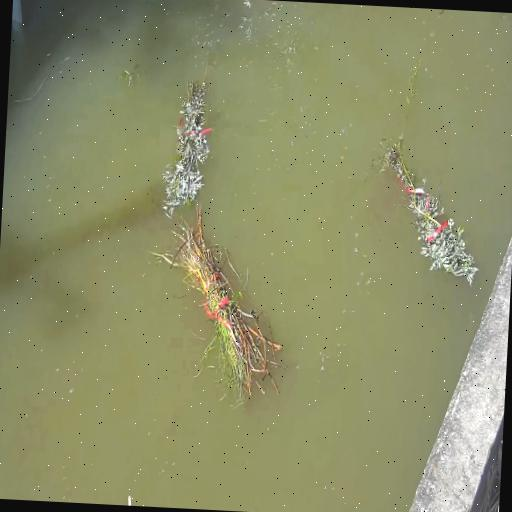twig: (155, 211, 281, 398), (384, 144, 478, 284), (162, 80, 209, 217)
